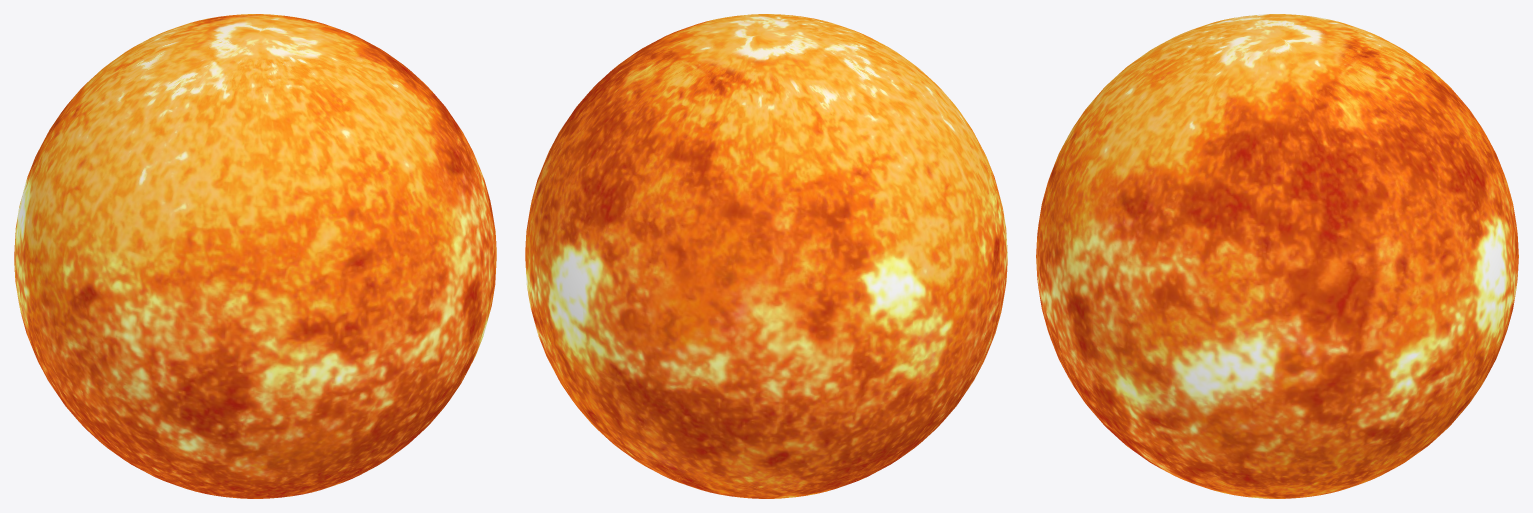
The model's file is sun.glb.
The picture shows the model from 3 angles, left to right: view 1: azimuth 30°, elevation 25°; view 2: azimuth 150°, elevation 25°; view 3: azimuth 270°, elevation 25°; orthographic projection.
Parts seen in each view (by area): view 1: Sol; view 2: Sol; view 3: Sol.
Part boxes in pixels (box(x1,y1,x2,y2)): Sol: box(14, 14, 496, 498); Sol: box(525, 14, 1007, 498); Sol: box(1036, 14, 1518, 498).
Size of the model in its own units: 1.97 by 2 by 1.97.
Materials: 1 (1 with a texture image).
